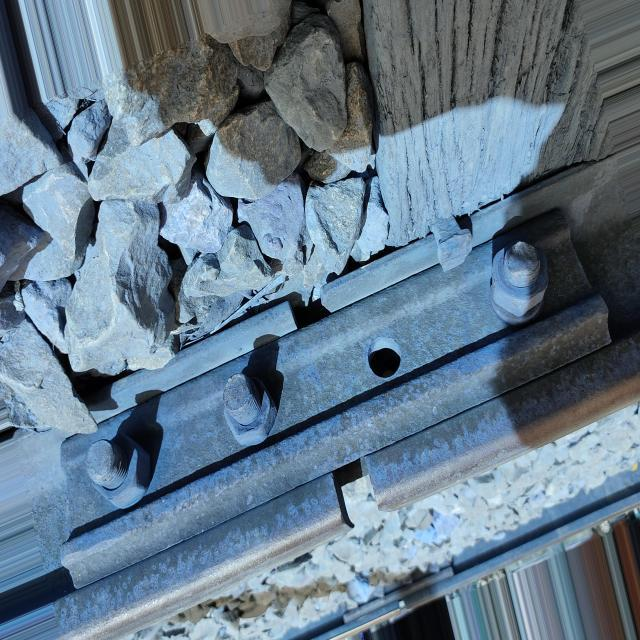Defective Joint: (44, 212, 618, 584)
Good Fasteners: (430, 215, 472, 271)
